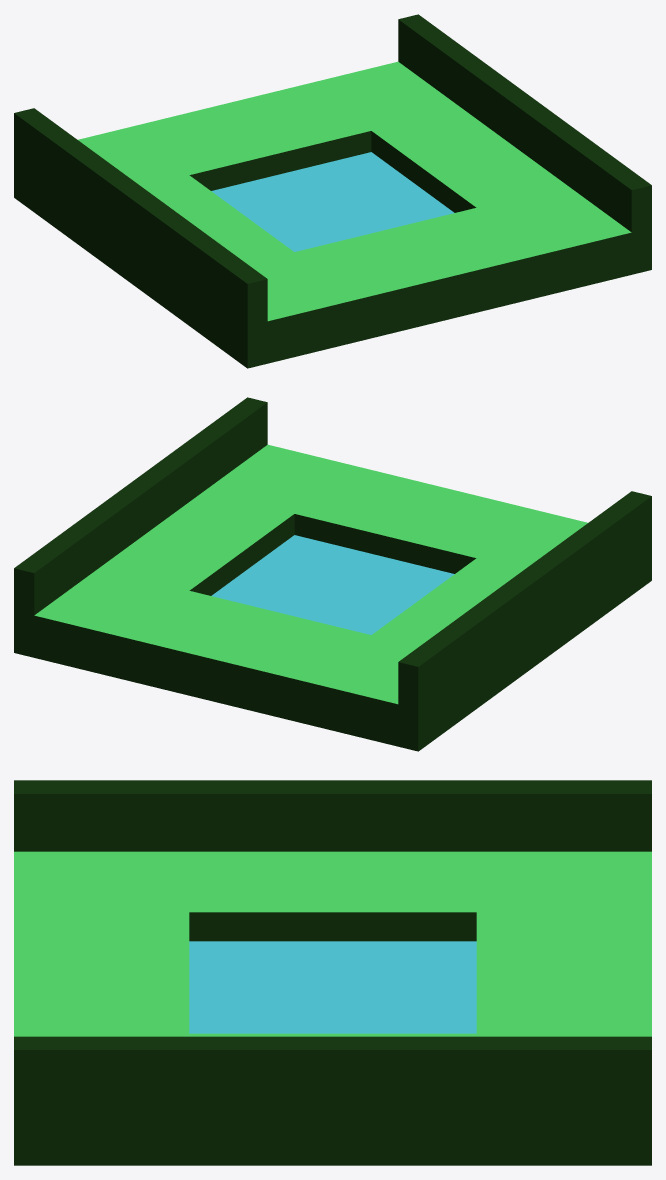
Rendered from MG Pit 1.fbx.
The picture shows the model from 3 angles, top to bottom: view 1: azimuth 30°, elevation 25°; view 2: azimuth 150°, elevation 25°; view 3: azimuth 270°, elevation 25°; orthographic projection. The views are drawn at different scales.
Parts seen in each view (by area): view 1: MG Pit 1; view 2: MG Pit 1; view 3: MG Pit 1.
Boxes of the visible parts, bbox=[...] form: MG Pit 1: bbox=[14, 14, 651, 368]; MG Pit 1: bbox=[14, 397, 651, 751]; MG Pit 1: bbox=[14, 780, 651, 1165].
Bounding box in the file's own units: 200 × 40 × 200.
